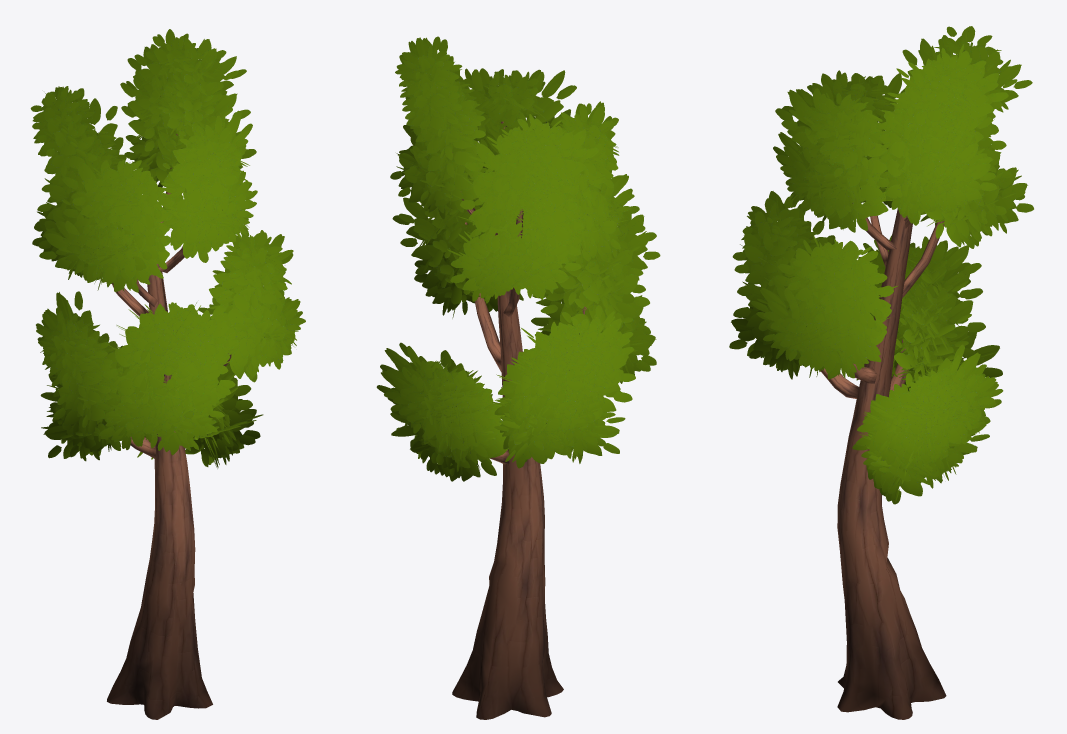
The model's file is tree-round-3.glb.
The picture shows the model from 3 angles, left to right: view 1: azimuth 30°, elevation 25°; view 2: azimuth 150°, elevation 25°; view 3: azimuth 270°, elevation 25°; orthographic projection. The views are drawn at different scales.
Visible parts, largest first — view 1: CommonTree_3; view 2: CommonTree_3; view 3: CommonTree_3.
Part boxes in pixels (box(x1,y1,x2,y2)): CommonTree_3: box(30, 29, 305, 719); CommonTree_3: box(376, 36, 660, 719); CommonTree_3: box(729, 26, 1033, 719).
Size of the model in its own units: 4.06 by 9.43 by 4.24.
Materials: 2 (2 with a texture image).
